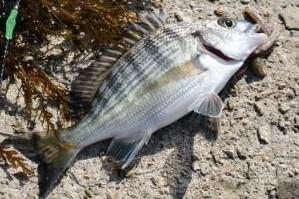fish: (9, 9, 271, 198)
